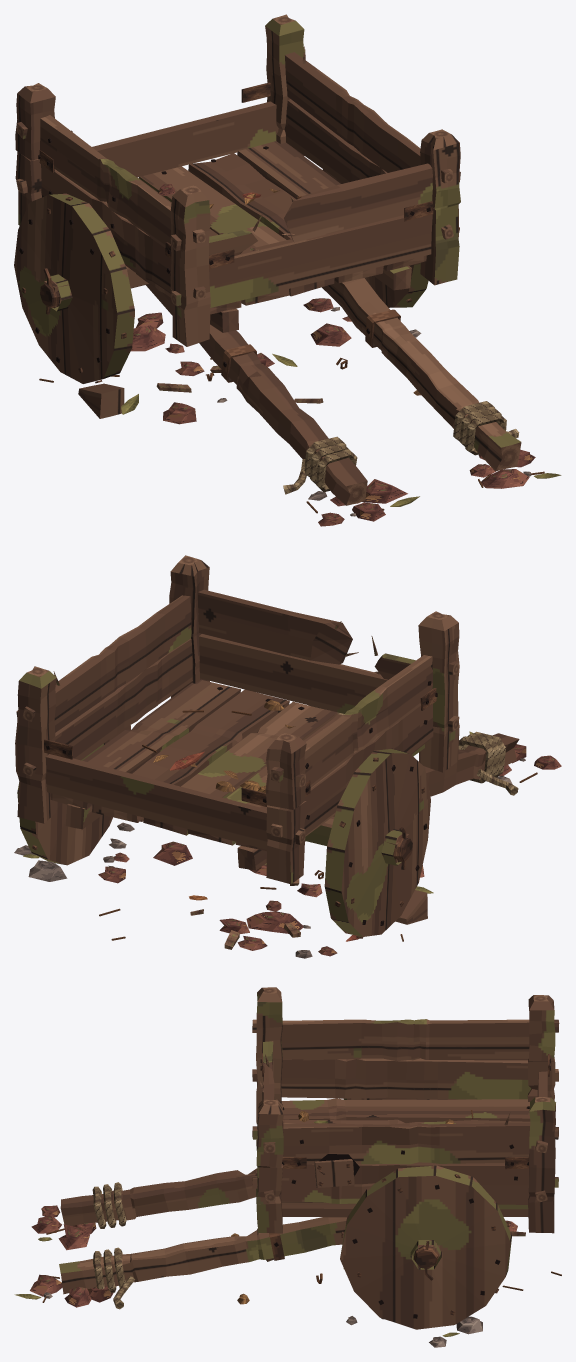
Rendered from SM_AN19_Handcart.fbx.
The picture shows the model from 3 angles, top to bottom: view 1: azimuth 30°, elevation 25°; view 2: azimuth 150°, elevation 25°; view 3: azimuth 270°, elevation 25°; orthographic projection. The views are drawn at different scales.
Parts seen in each view (by area): view 1: AN19a_Wood, AN19a_Props; view 2: AN19a_Wood, AN19a_Props; view 3: AN19a_Wood, AN19a_Props.
Boxes of the visible parts, x1,y1,x2,y2 form: AN19a_Wood: [14, 19, 520, 505]; AN19a_Props: [16, 14, 561, 526]; AN19a_Wood: [15, 560, 519, 936]; AN19a_Props: [14, 555, 561, 958]; AN19a_Wood: [59, 988, 559, 1329]; AN19a_Props: [14, 987, 561, 1347].
Size of the model in its own units: 1.89 by 1.2 by 2.62.
